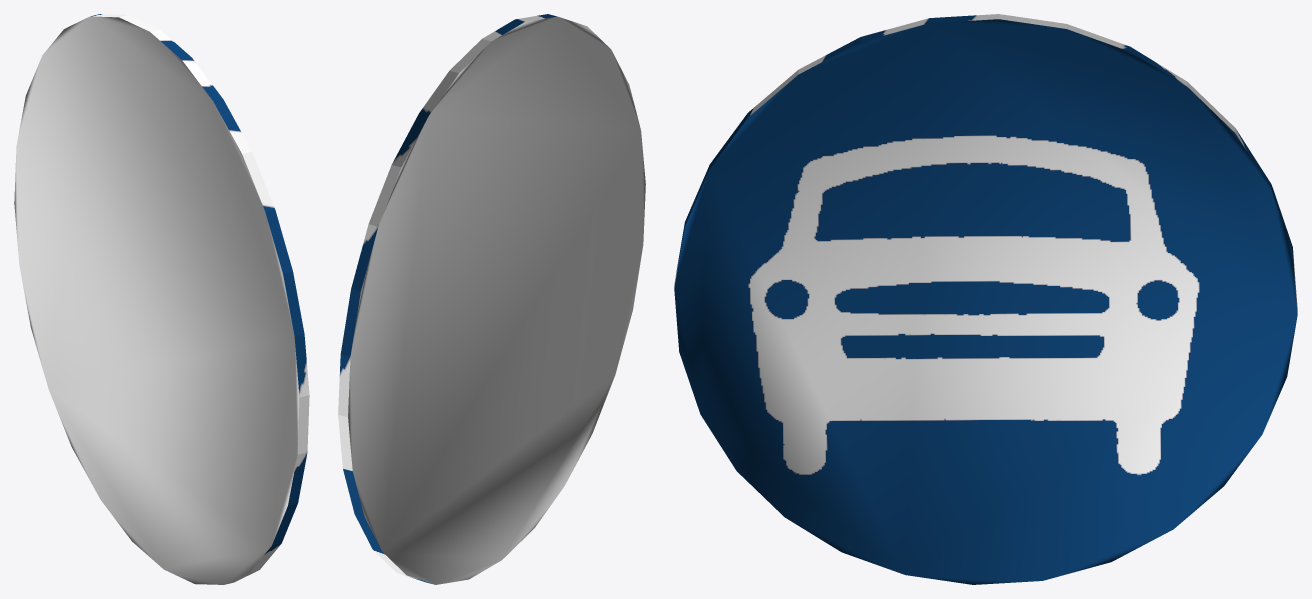
The picture shows the model from 3 angles, left to right: view 1: azimuth 30°, elevation 25°; view 2: azimuth 150°, elevation 25°; view 3: azimuth 270°, elevation 25°; orthographic projection. The views are drawn at different scales.
Parts seen in each view (by area): view 1: model01; view 2: model01; view 3: model01.
Boxes of the visible parts, <box> form: model01: <box>14,14,309,584</box>; model01: <box>338,14,645,584</box>; model01: <box>674,14,1297,584</box>.
Bounding box in the file's own units: 0.0396 × 1.19 × 1.19.
2 materials, 2 textured.
